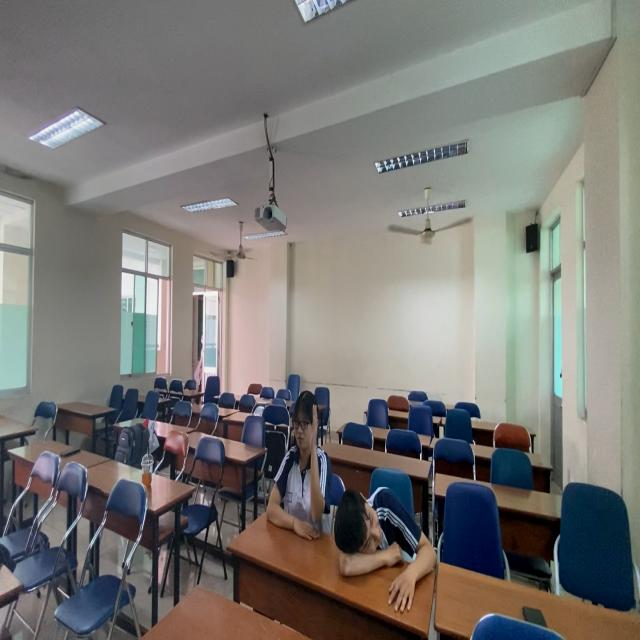raise_hand: (263, 386, 334, 547)
sleep: (333, 483, 439, 598)
